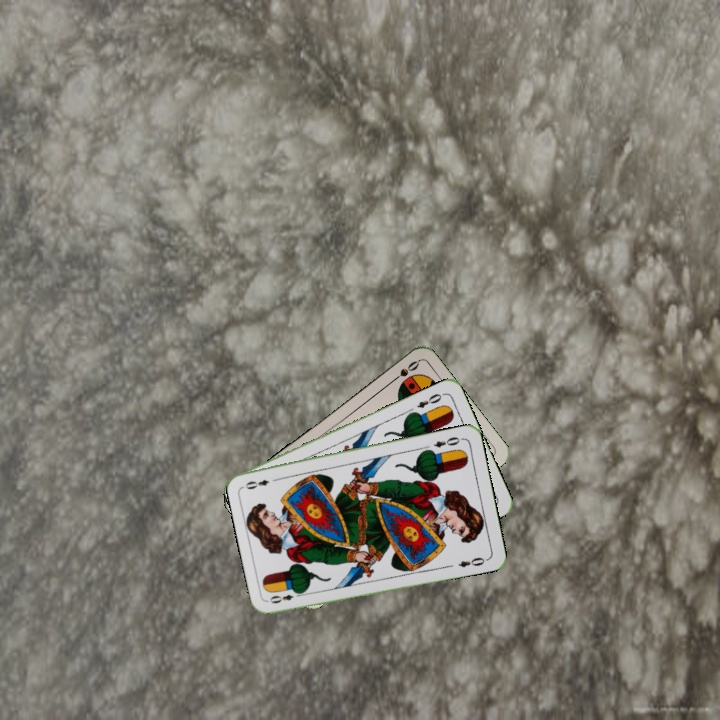EO: (413, 389, 447, 411), (266, 587, 305, 606), (430, 433, 462, 450)
SO: (386, 356, 422, 386)
